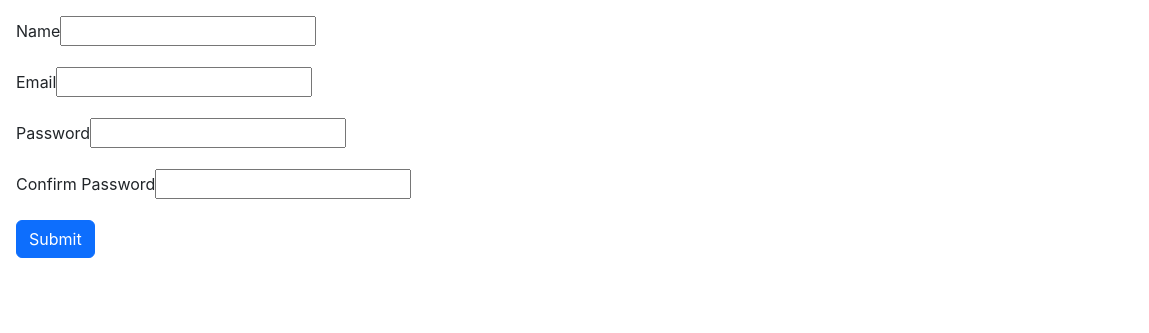
App › submit button & error handling › should display correct error message when input email and password are valid && confirmed password is not valid
The width and height of the screenshot is (1149, 333).
expect the text "Password confirmation does not match" is not shown: met
Step 1. Type "john.doe@example.com" into the field labelled "Email" → (184, 82), box [56, 67, 312, 97]
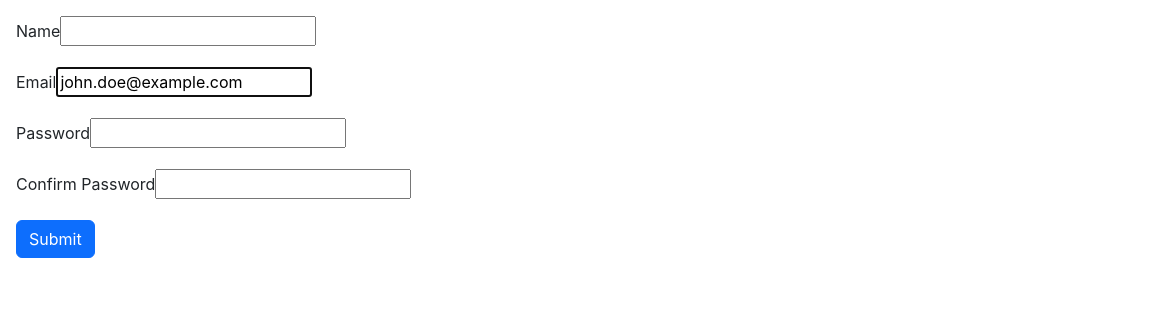
Step 2. Type "Malta123456Yes$$$$$$$" into the password field labelled "Password" → (218, 133), box [90, 118, 346, 148]
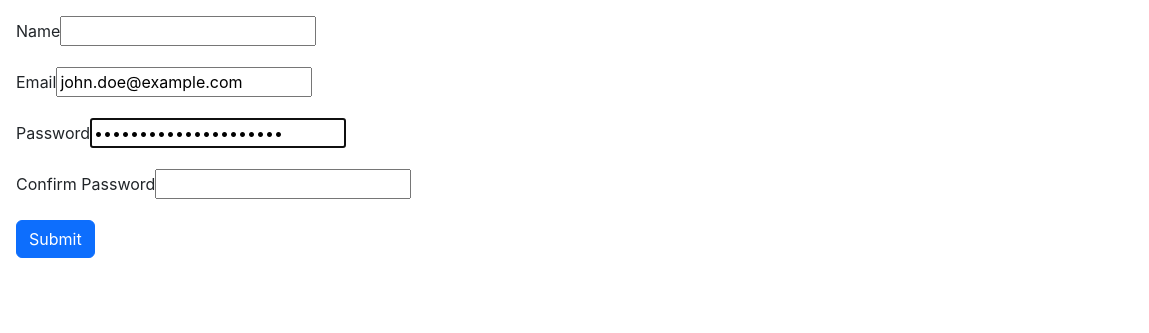
Step 3. Type "Malta123456Yes$$$" into the password field labelled "Confirm Password" → (283, 184), box [155, 169, 411, 199]
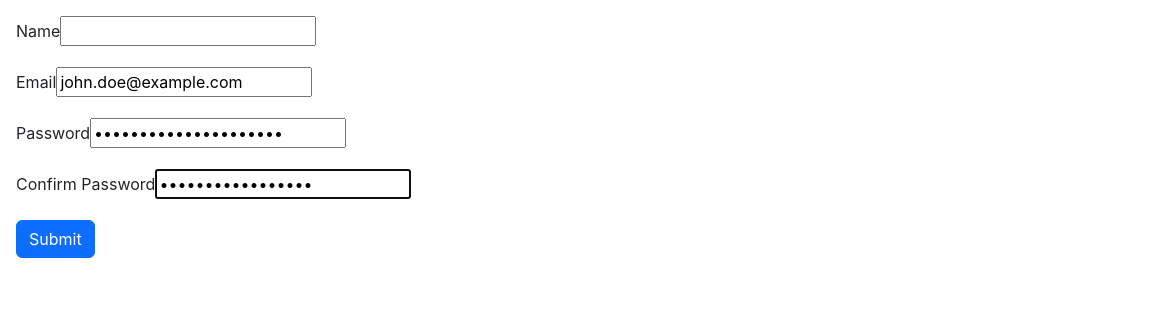
Step 4. Click the button → (55, 239), box [16, 220, 95, 258]
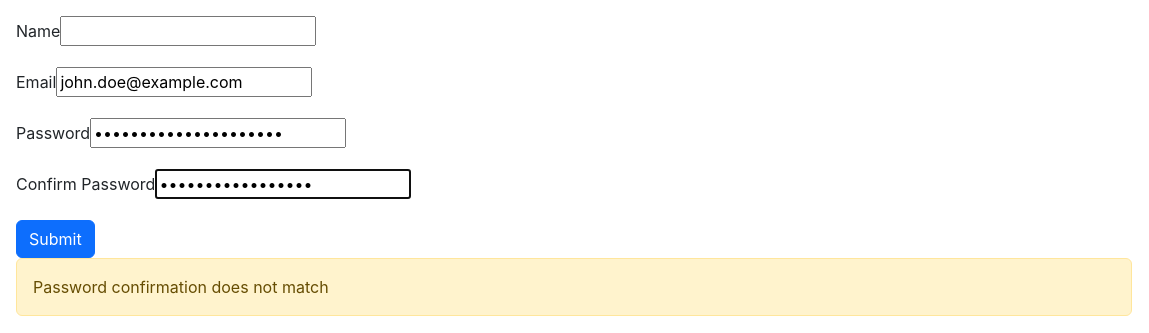
expect the text "Password confirmation does not match" is shown: met, box [16, 258, 1132, 316]
